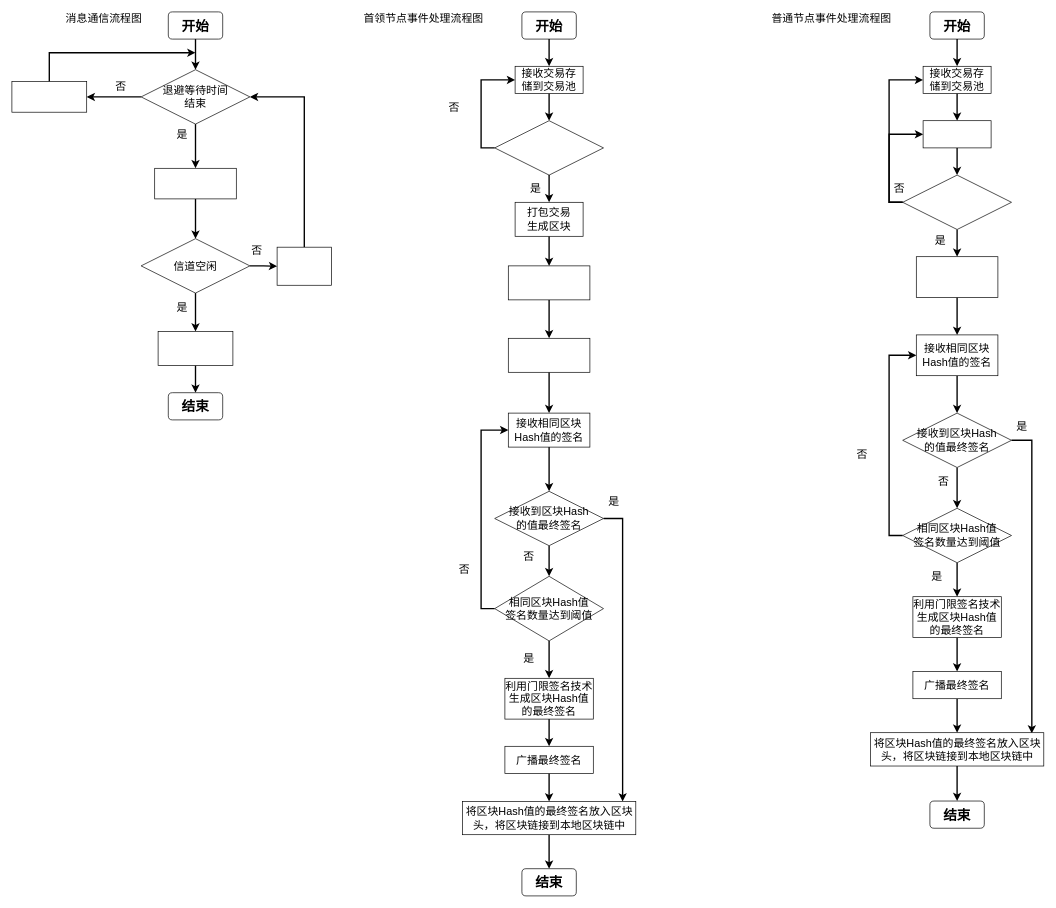
This 1056x908 diagram has some shape labels left out. Each missing label, with the box of its shape:
交易数量是否 超过最低阈值: (494, 120, 604, 175)
区块是否有效: (902, 174, 1012, 230)
对区块Hash值签名，并广播: (916, 256, 998, 298)
广播区块和区块Hash值的签名: (508, 338, 590, 372)
广播消息: (157, 331, 233, 366)
接收区块: (922, 120, 991, 148)
有消息要广播: (154, 168, 236, 199)
继续等待: (11, 81, 87, 112)
计算区块的Hash值，并签名: (508, 265, 590, 300)
随机退避一段时间: (276, 247, 332, 285)
